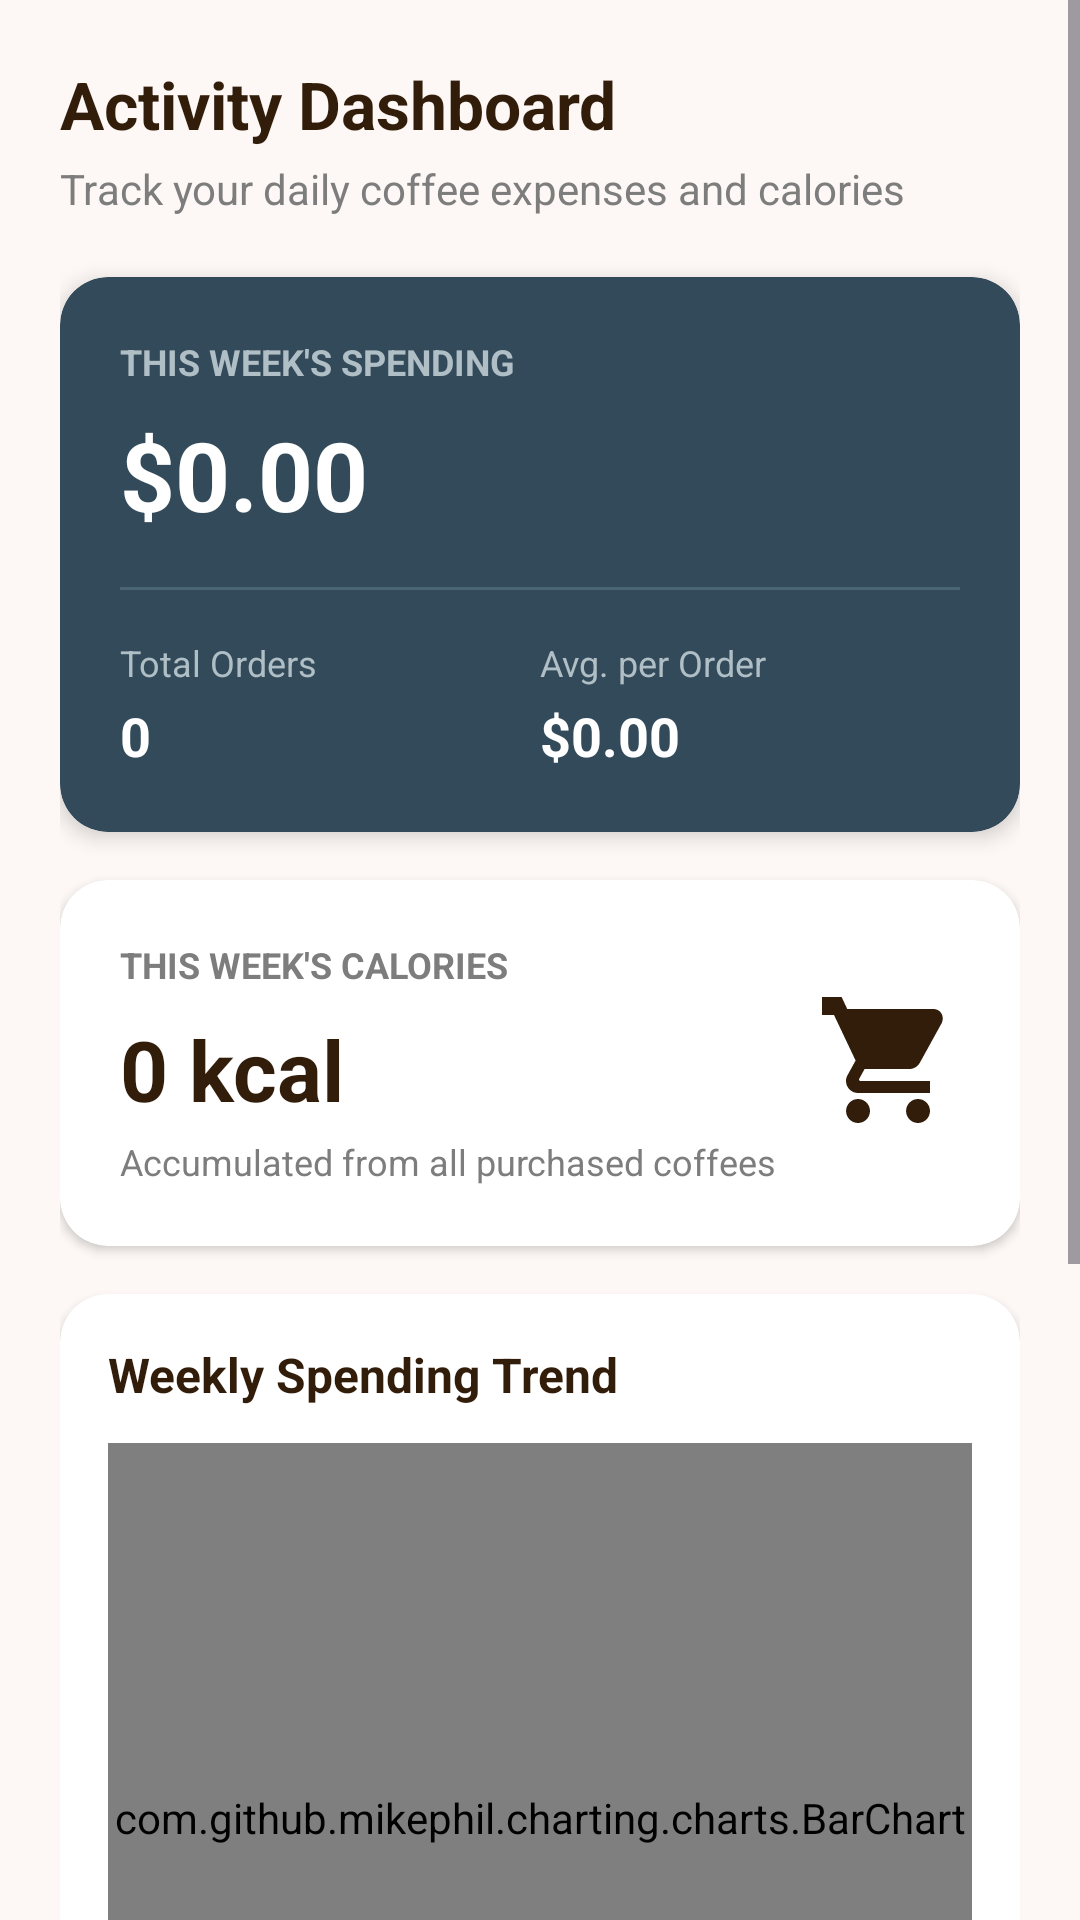

Where to tap for icons on this 1080 x 1920 app screen, as (x=x, y=y):
cart: (x=882, y=1060)
